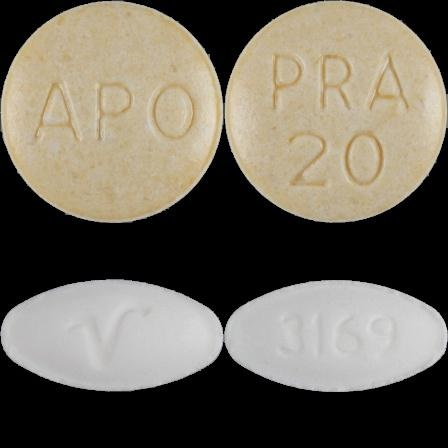35356-919: (0, 0, 224, 224)
